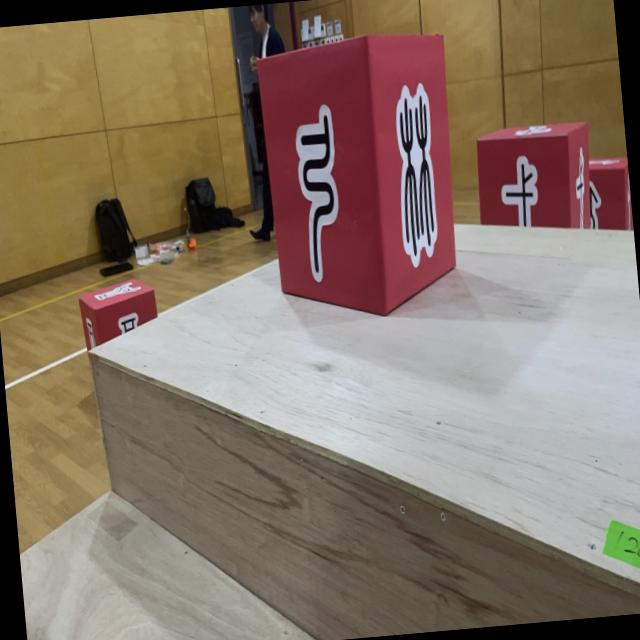12: (586, 176, 604, 231)
2: (390, 82, 443, 270)
4: (290, 103, 348, 284)
8: (116, 311, 140, 334), (86, 316, 98, 349)
9: (498, 152, 542, 229), (570, 145, 589, 227)
fighter: (254, 25, 470, 324), (471, 118, 597, 238), (78, 272, 160, 354), (582, 154, 632, 233)
